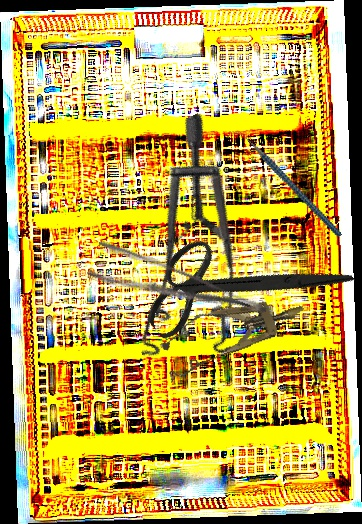Chopper: (228, 107, 343, 260)
Dressing Forceps: (85, 236, 269, 345)
Iris Scissors: (125, 176, 357, 397)
Speculum: (57, 111, 301, 388), (153, 281, 313, 384)
